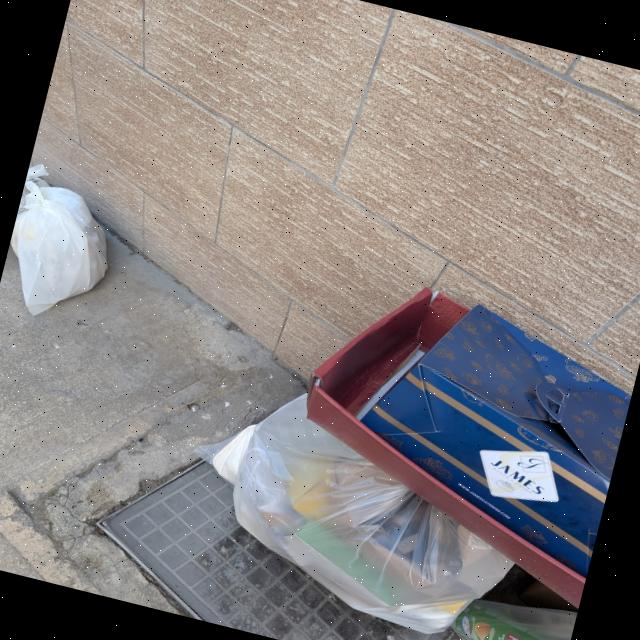Organic Waste: (0, 162, 128, 332)
Other Waste: (270, 261, 640, 611)
Recyclable Material: (168, 368, 541, 640), (438, 579, 578, 640)
